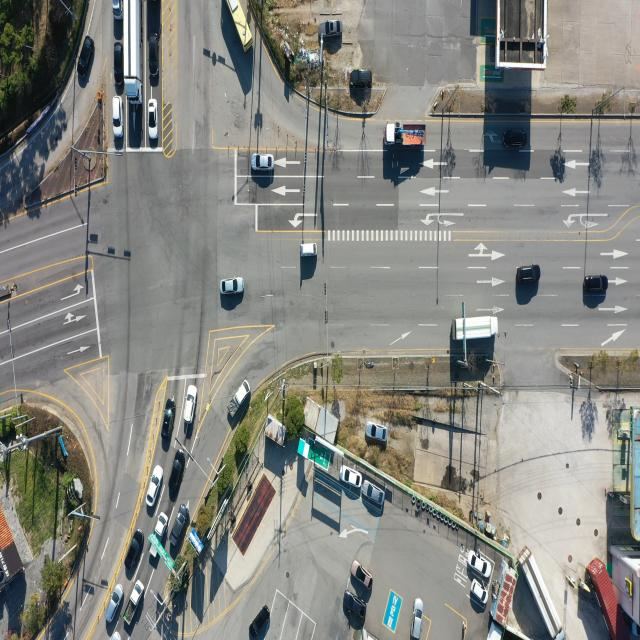car: (171, 502, 192, 551), (169, 451, 186, 502), (105, 584, 124, 624), (146, 464, 163, 508), (126, 533, 144, 572), (351, 559, 374, 589), (252, 606, 272, 640), (342, 590, 364, 620), (162, 400, 175, 450), (77, 38, 93, 76), (470, 551, 492, 578), (149, 34, 159, 88), (363, 483, 384, 507), (412, 599, 424, 640), (341, 465, 363, 487), (184, 386, 196, 425), (364, 422, 387, 442), (112, 94, 123, 135), (517, 266, 542, 284), (219, 278, 243, 296), (585, 276, 609, 294), (472, 581, 489, 606), (502, 132, 525, 150), (148, 98, 158, 139), (252, 154, 274, 172), (351, 68, 372, 86), (114, 44, 123, 84), (323, 20, 342, 38), (301, 243, 319, 258)
large_bus: (222, 0, 251, 51)
medium_truck: (523, 548, 565, 638), (126, 0, 144, 98), (452, 315, 497, 341), (387, 127, 428, 149)
small_truck: (148, 512, 168, 562), (229, 378, 251, 417), (127, 578, 145, 620), (112, 1, 124, 23)
